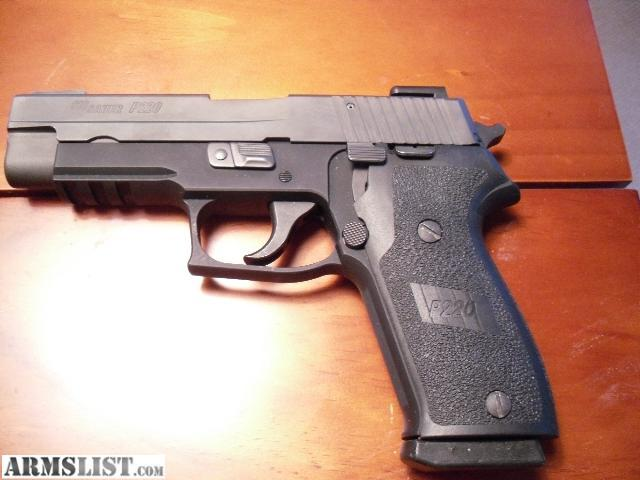handgun: (0, 82, 562, 480)
